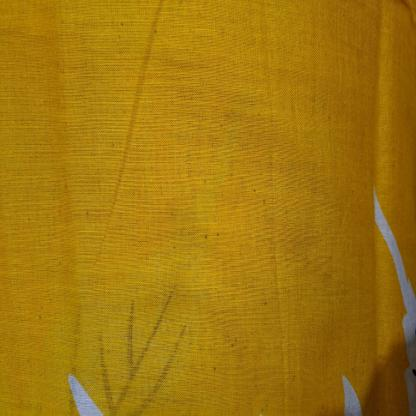spot: (196, 223, 225, 243), (210, 356, 221, 382), (82, 205, 98, 221), (230, 333, 242, 352)
